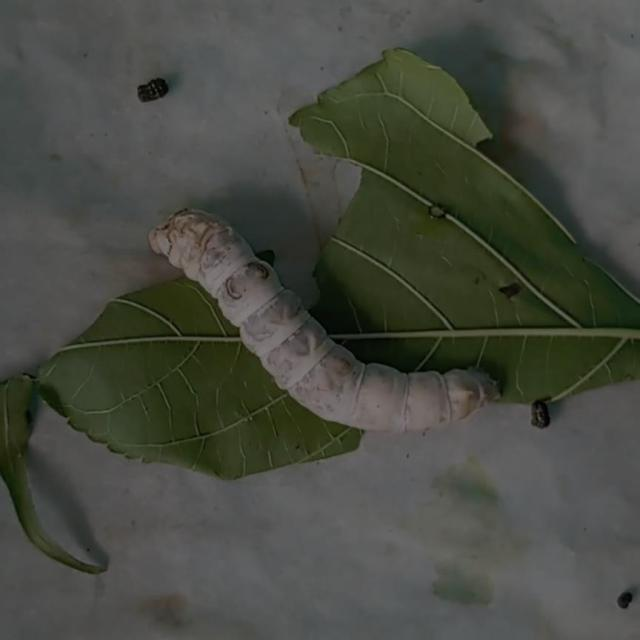Grasserie: (140, 186, 518, 440)
